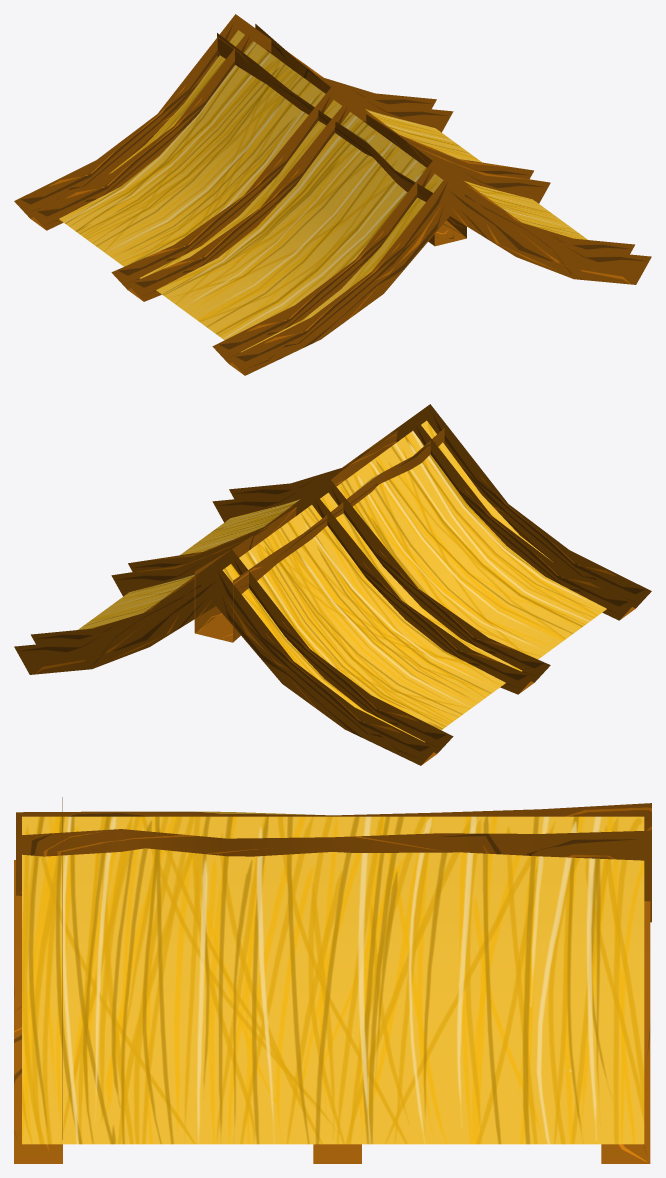
Rendered from roof.FBX.
3 renders of one model, top to bottom at view 1: azimuth 30°, elevation 25°; view 2: azimuth 150°, elevation 25°; view 3: azimuth 270°, elevation 25°, orthographic. The views are drawn at different scales.
Visible parts, largest first — view 1: Box009; view 2: Box009; view 3: Box009.
Boxes of the visible parts, x1,y1,x2,y2 form: Box009: [14, 14, 651, 375]; Box009: [14, 404, 651, 765]; Box009: [14, 797, 651, 1163].
Bounding box in the file's own units: 23.71 × 8.52 × 20.91.
Materials: 1 (1 with a texture image).
